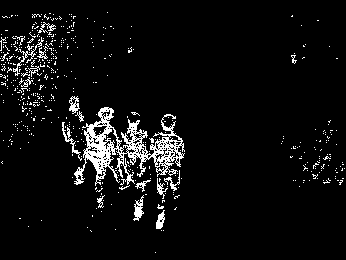person: (150, 111, 186, 233), (87, 103, 125, 211), (120, 109, 153, 222), (61, 96, 89, 187)
